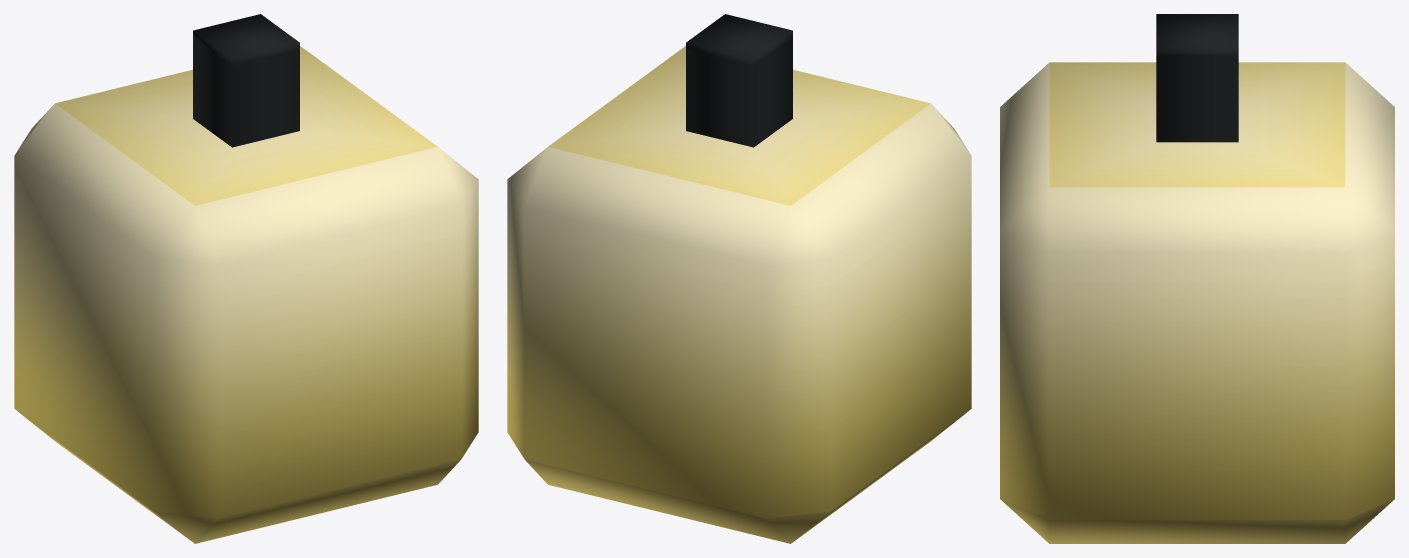
Rendered from candle_big_2.fbx.
3 views of the same model, side by side, from view 1: azimuth 30°, elevation 25°; view 2: azimuth 150°, elevation 25°; view 3: azimuth 270°, elevation 25° (orthographic). The views are drawn at different scales.
Visible parts, largest first — view 1: candle_big_2; view 2: candle_big_2; view 3: candle_big_2.
Boxes of the visible parts, box(x1,y1,x2,y2) form: candle_big_2: box(14, 14, 478, 543); candle_big_2: box(507, 14, 971, 543); candle_big_2: box(1000, 14, 1394, 543).
Size of the model in its own units: 39.91 by 50.21 by 39.91.
